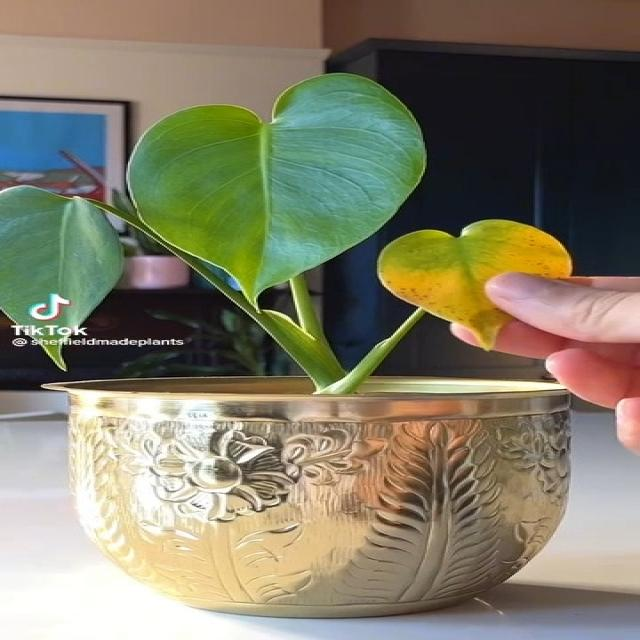lisc_przelany: (377, 219, 572, 351)
roslina_przelana: (0, 75, 575, 396)
